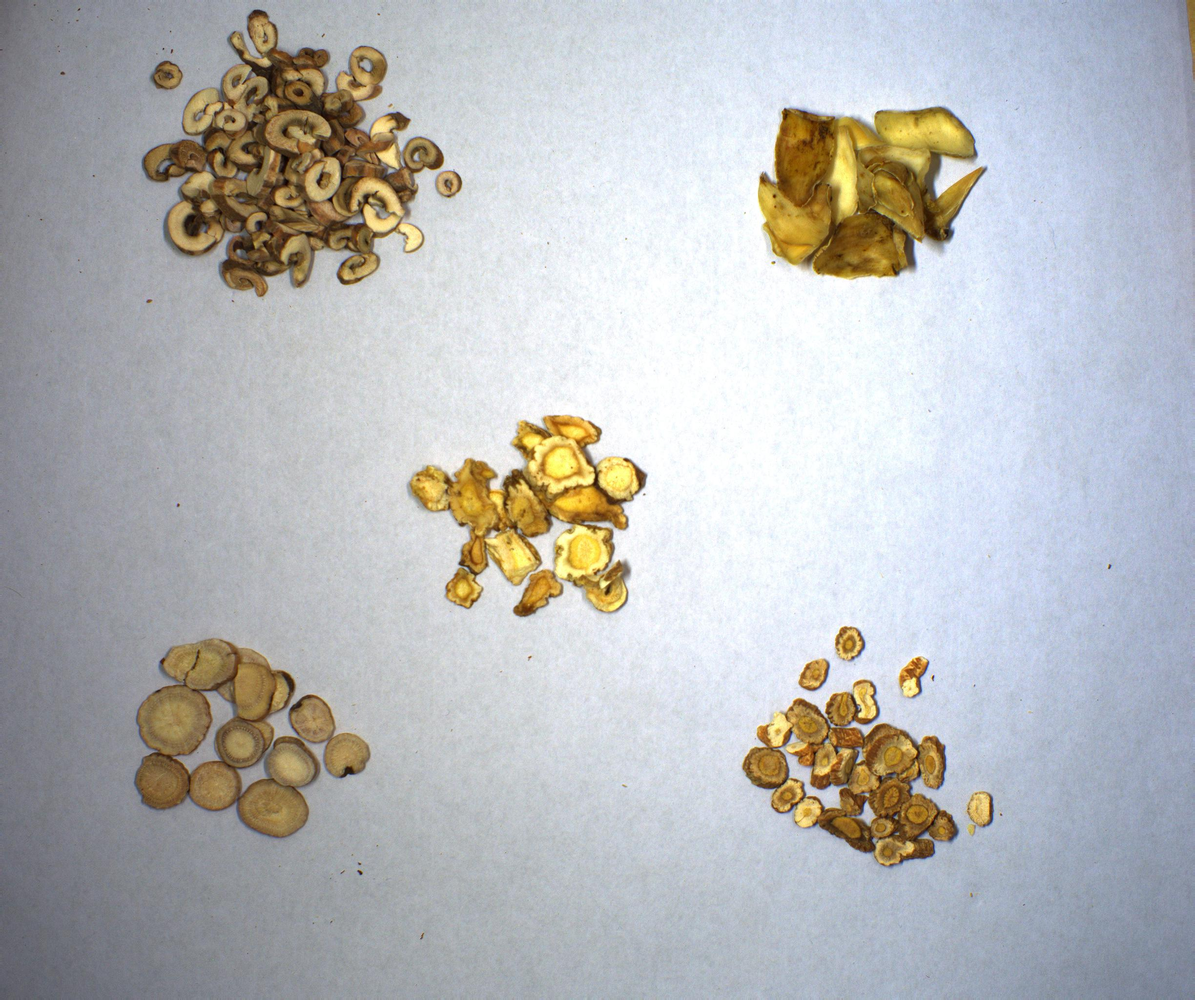baihe: (757, 89, 986, 294)
baishao: (128, 630, 376, 856)
banlangen: (727, 617, 1008, 868)
jiegeng: (392, 401, 664, 635)
mudanpi: (127, 9, 487, 298)
